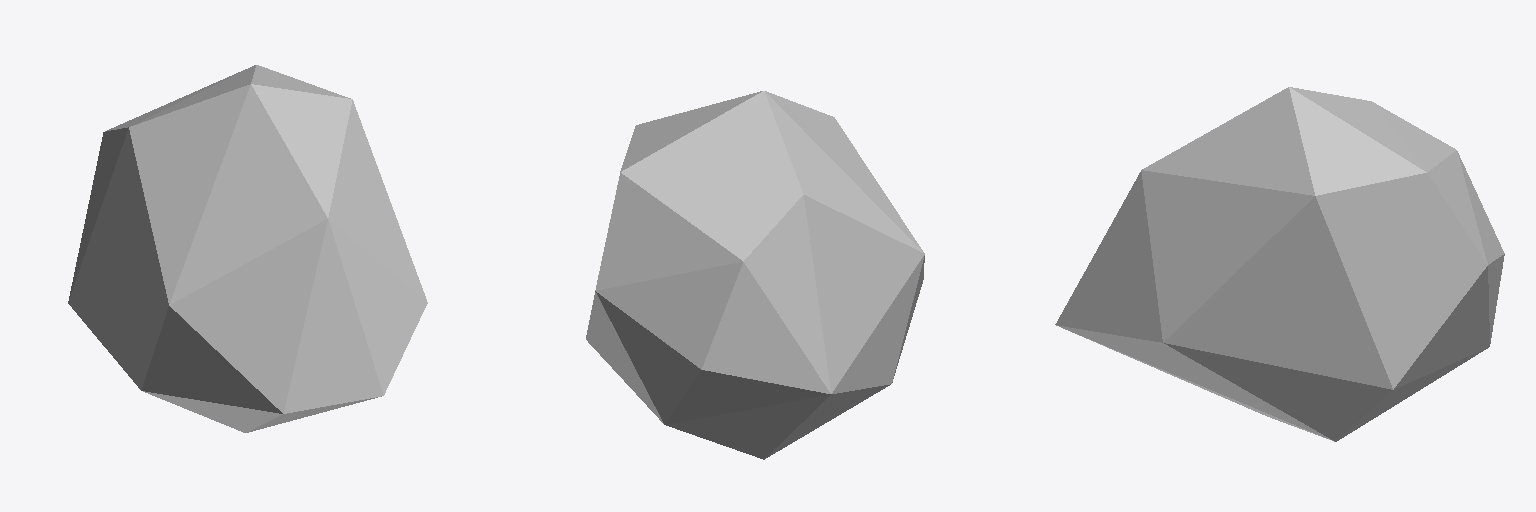
The model's file is ast4.obj.
The picture shows the model from 3 angles: view 1: azimuth 30°, elevation 25°; view 2: azimuth 150°, elevation 25°; view 3: azimuth 270°, elevation 25°; orthographic projection.
Visible parts, largest first — view 1: asteroid.002_Icosphere.001; view 2: asteroid.002_Icosphere.001; view 3: asteroid.002_Icosphere.001.
Boxes of the visible parts, <box> form: asteroid.002_Icosphere.001: <box>68,65,427,432</box>; asteroid.002_Icosphere.001: <box>586,91,924,459</box>; asteroid.002_Icosphere.001: <box>1055,87,1504,441</box>.
Bounding box in the file's own units: 1.83 × 2.35 × 2.83.